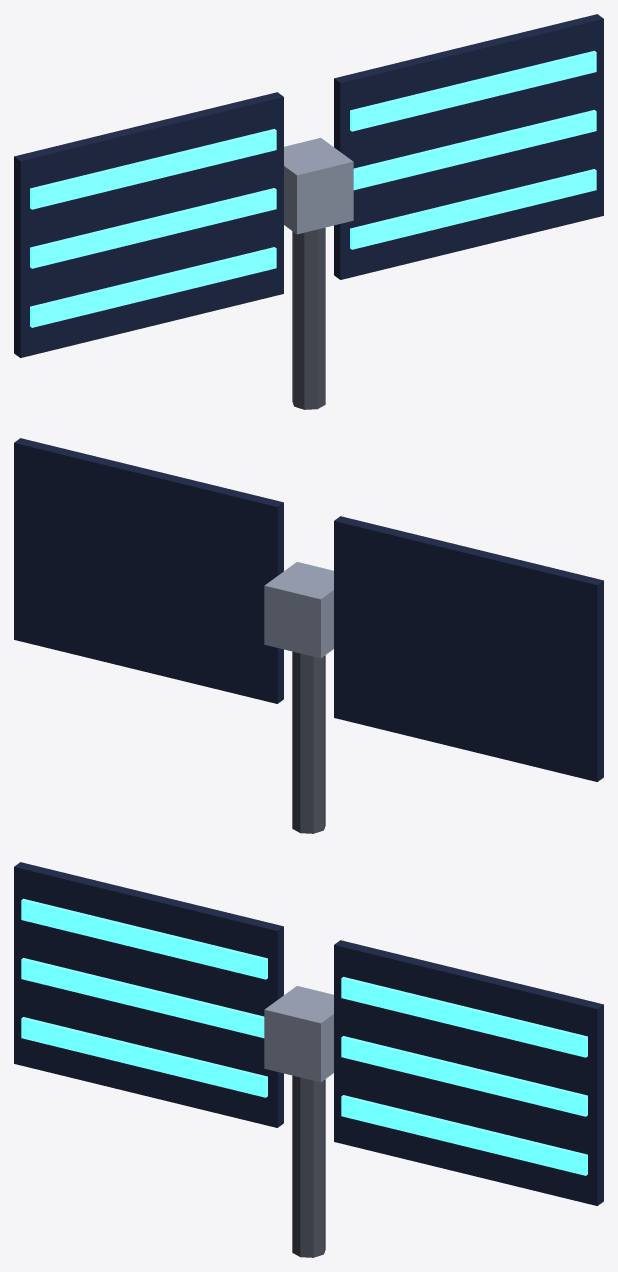
Rendered from solar_panel.fbx.
3 renders of one model, top to bottom at view 1: azimuth 30°, elevation 25°; view 2: azimuth 150°, elevation 25°; view 3: azimuth 330°, elevation 25°, orthographic.
Parts seen in each view (by area): view 1: solar_panel; view 2: solar_panel; view 3: solar_panel.
Boxes of the visible parts, bbox=[...] form: solar_panel: bbox=[14, 14, 603, 409]; solar_panel: bbox=[14, 438, 603, 833]; solar_panel: bbox=[14, 862, 603, 1257].
Size of the model in its own units: 3.1 by 1.6 by 0.3.
